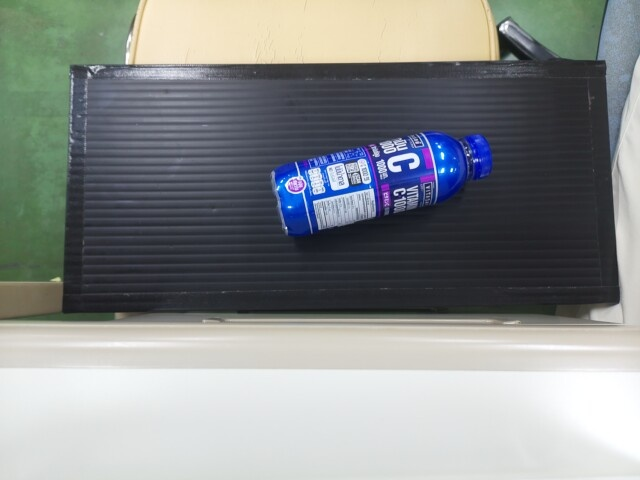plastic_bottle: (271, 130, 491, 240)
